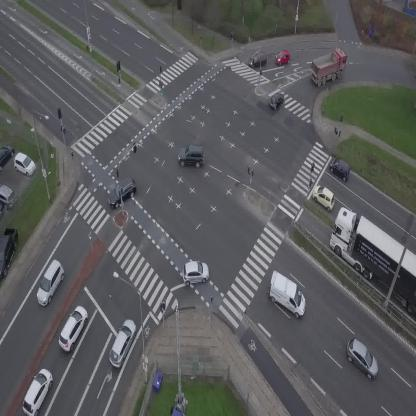car: (339, 335, 387, 382), (18, 366, 58, 416), (54, 304, 93, 354), (31, 258, 70, 308), (105, 317, 141, 370), (102, 176, 141, 210), (308, 182, 340, 212), (180, 258, 211, 286), (326, 155, 354, 182), (179, 145, 205, 168), (266, 91, 287, 110), (247, 51, 268, 68), (347, 210, 362, 229), (275, 50, 290, 65)
lorry: (259, 270, 315, 320), (304, 45, 354, 89)
